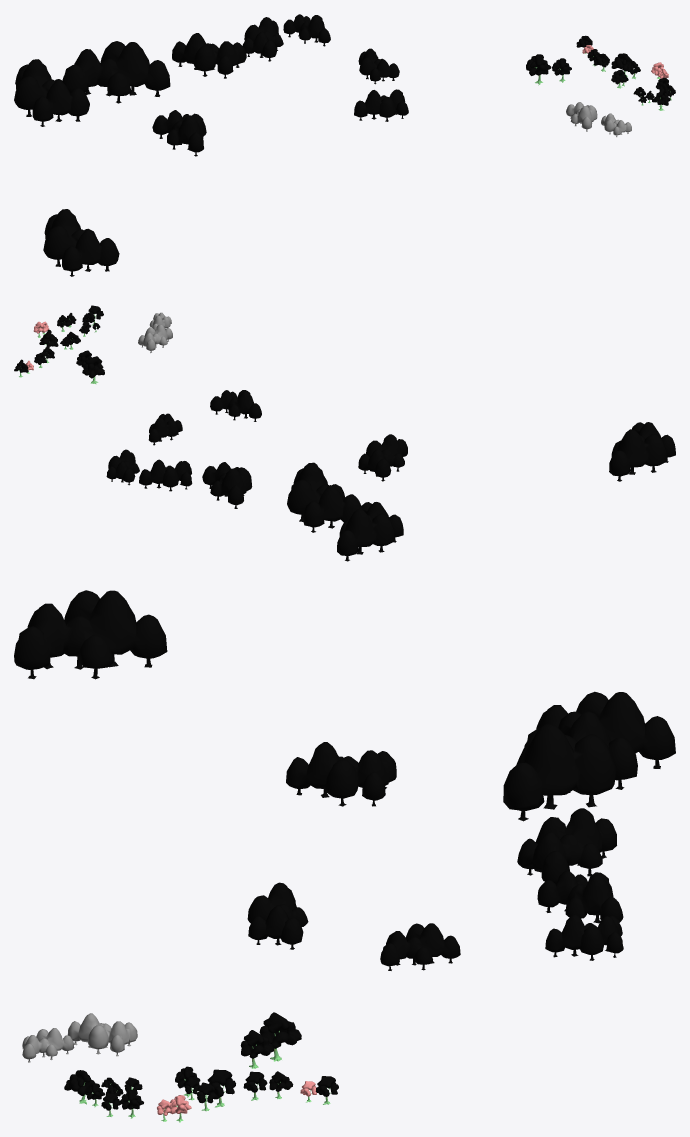
The model's file is SM_ENV_KNVLLG03_Tree_Distance_A.gltf.
3 renders of one model, top to bottom at view 1: azimuth 30°, elevation 25°; view 2: azimuth 150°, elevation 25°; view 3: azimuth 270°, elevation 25°, orthographic. The views are drawn at different scales.
Visible parts, largest first — view 1: SM_ENV_KNVLLG03_Tree_Distance_A; view 2: SM_ENV_KNVLLG03_Tree_Distance_A; view 3: SM_ENV_KNVLLG03_Tree_Distance_A.
Part boxes in pixels (<box>): SM_ENV_KNVLLG03_Tree_Distance_A: <box>14,14,675,276</box>; SM_ENV_KNVLLG03_Tree_Distance_A: <box>14,305,675,561</box>; SM_ENV_KNVLLG03_Tree_Distance_A: <box>14,590,675,1122</box>.
Bounding box in the file's own units: 546 × 50.23 × 305.
